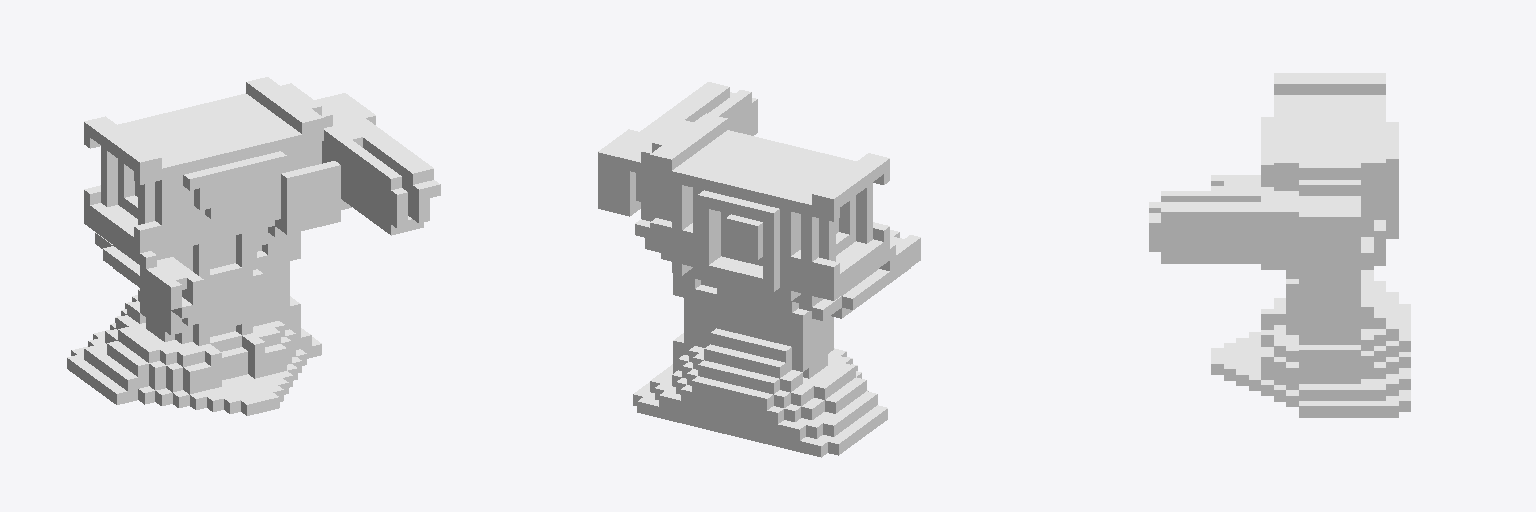
Rendered from HeavyMech.obj.
The picture shows the model from 3 angles: view 1: azimuth 30°, elevation 25°; view 2: azimuth 150°, elevation 25°; view 3: azimuth 270°, elevation 25°; orthographic projection.
Visible parts, largest first — view 1: object 1; view 2: object 1; view 3: object 1.
Part boxes in pixels (x1,y1,x2,y2): object 1: (67,77,440,415); object 1: (598,82,920,457); object 1: (1149,73,1410,417).
Bounding box in the file's own units: 2.4 × 2.2 × 2.1.